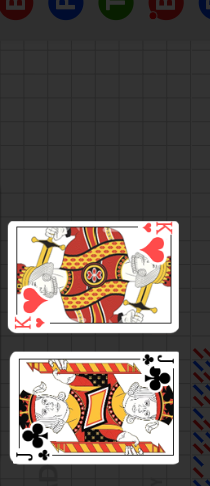JC: (15, 447, 53, 463)
KH: (141, 221, 174, 235)
